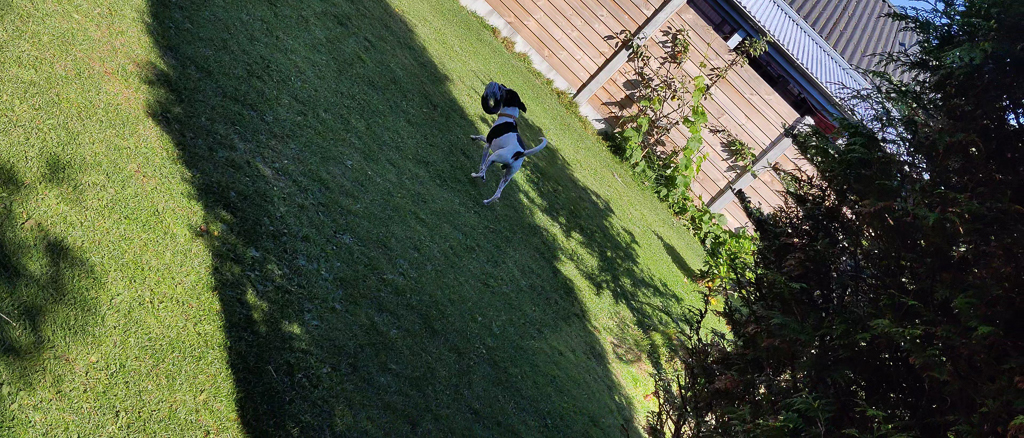Dog: (459, 80, 556, 212)
